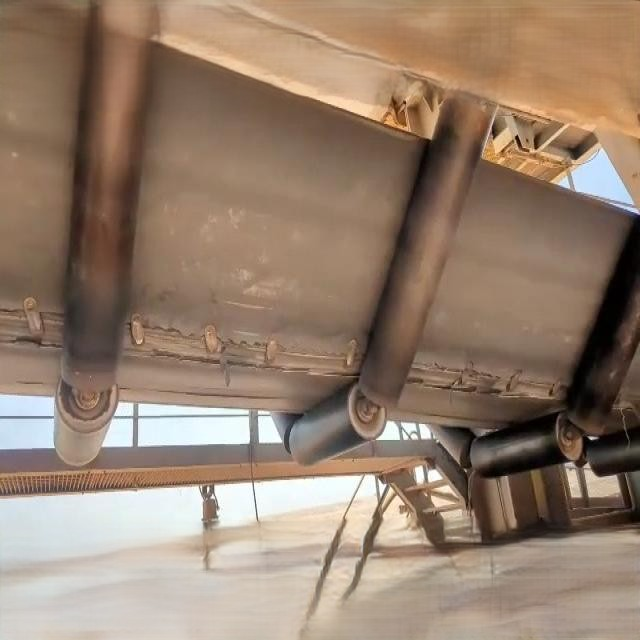Tear: (118, 311, 376, 394), (398, 353, 568, 413), (0, 291, 70, 359)
